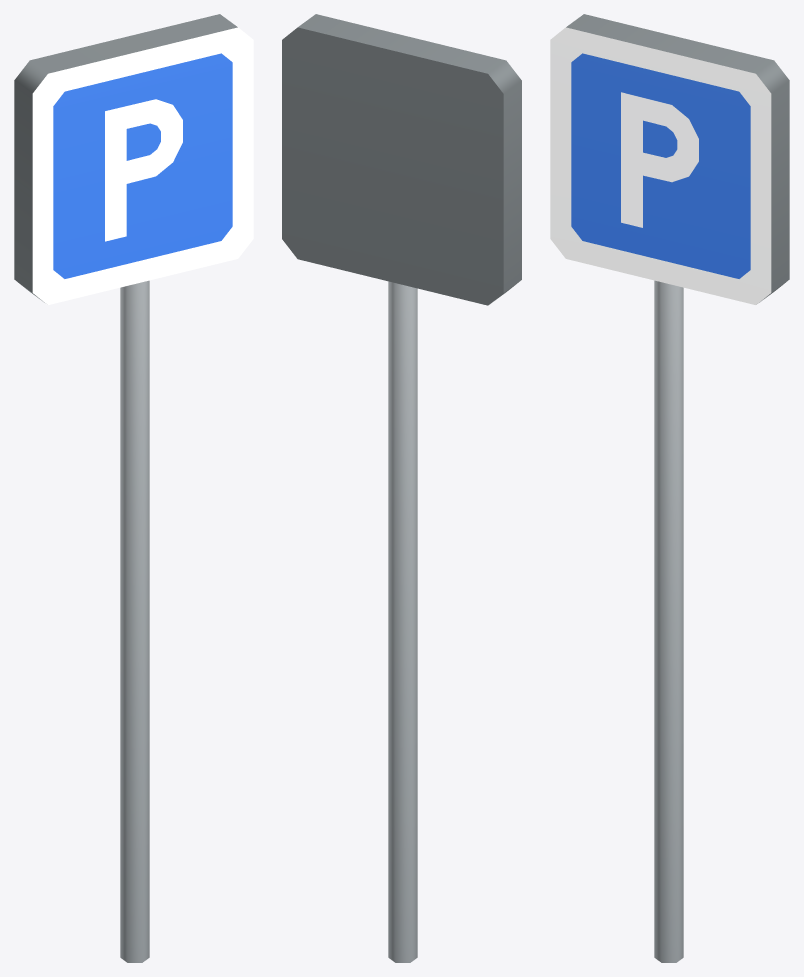
Rendered from Road_Sign_07.glb.
The picture shows the model from 3 angles, left to right: view 1: azimuth 30°, elevation 25°; view 2: azimuth 150°, elevation 25°; view 3: azimuth 330°, elevation 25°; orthographic projection.
Parts seen in each view (by area): view 1: Road_Sign_07; view 2: Road_Sign_07; view 3: Road_Sign_07.
Part boxes in pixels (x1,y1,x2,y2): Road_Sign_07: [14, 14, 253, 962]; Road_Sign_07: [282, 14, 521, 962]; Road_Sign_07: [550, 14, 789, 962].
Size of the model in its own units: 0.7 by 2.76 by 0.1048.
1 material, 1 textured.
